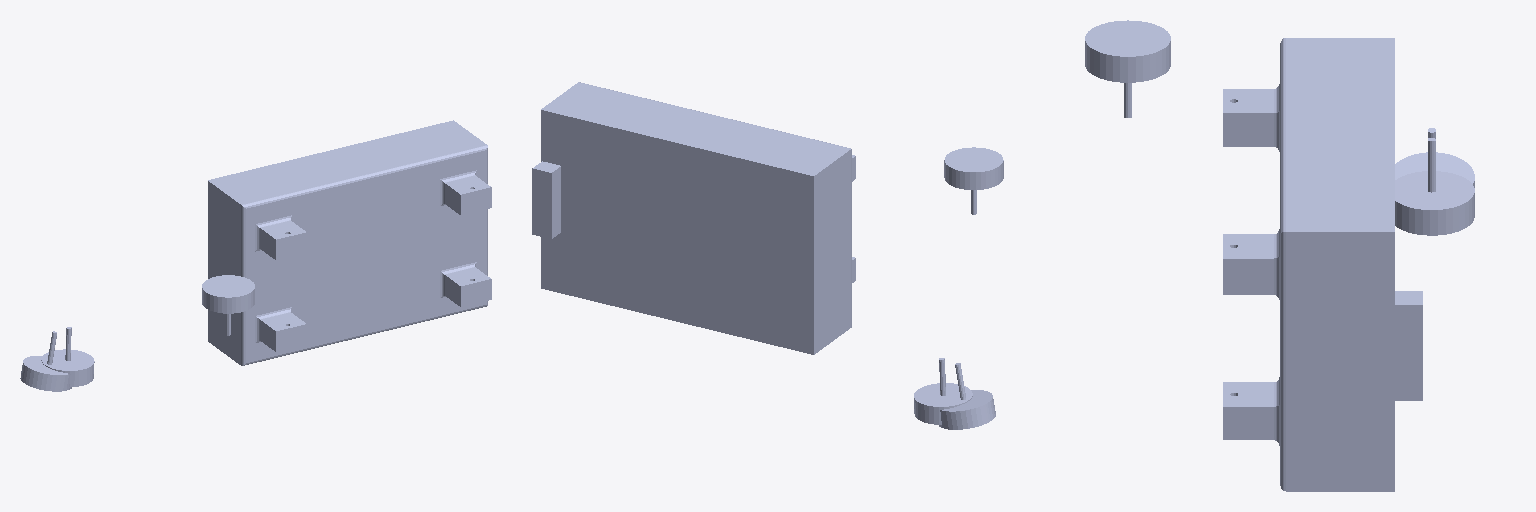
robot.urdf — MobileRobot:
<?xml version="1.0" encoding="utf-8"?>
<!-- This URDF was automatically created by SolidWorks to URDF Exporter! Originally created by [author] ([email redacted]) 
     Commit Version: 1.6.0-4-g7f85cfe  Build Version: 1.6.7995.38578
     For more information, please see http://wiki.ros.org/sw_urdf_exporter -->
<robot
  name="MobileRobot">
  <link
    name="base_link">
    <inertial>
      <origin
        xyz="0.0022933 -9.0093E-05 0.096212"
        rpy="0 0 0" />
      <mass
        value="10" />
      <inertia
        ixx="2.0518"
        ixy="0.0027302"
        ixz="-0.024527"
        iyy="4.8986"
        iyz="0.00096358"
        izz="6.285" />
    </inertial>
    <visual>
      <origin
        xyz="0 0 0"
        rpy="0 0 0" />
      <geometry>
        <mesh
          filename="package://MobileRobot/meshes/base_link.STL" />
      </geometry>
      <material
        name="">
        <color
          rgba="0.79216 0.81961 0.93333 1" />
      </material>
    </visual>
    <collision>
      <origin
        xyz="0 0 0"
        rpy="0 0 0" />
      <geometry>
        <mesh
          filename="package://MobileRobot/meshes/base_link.STL" />
      </geometry>
    </collision>
  </link>
  <link
    name="LF">
    <inertial>
      <origin
        xyz="0 -0.023529 6.9389E-18"
        rpy="0 0 0" />
      <mass
        value="0.90124" />
      <inertia
        ixx="0.001539"
        ixy="-3.0969E-19"
        ixz="-1.8635E-19"
        iyy="0.0024855"
        iyz="-2.8408E-19"
        izz="0.001539" />
    </inertial>
    <visual>
      <origin
        xyz="0 0 0"
        rpy="0 0 0" />
      <geometry>
        <mesh
          filename="package://MobileRobot/meshes/LF.STL" />
      </geometry>
      <material
        name="">
        <color
          rgba="0.79216 0.81961 0.93333 1" />
      </material>
    </visual>
    <collision>
      <origin
        xyz="0 0 0"
        rpy="0 0 0" />
      <geometry>
        <mesh
          filename="package://MobileRobot/meshes/LF.STL" />
      </geometry>
    </collision>
  </link>
  <joint
    name="LF_joint"
    type="revolute">
    <origin
      xyz="0.3 0.185 -0.08"
      rpy="0 -0.038067 3.1416" />
    <parent
      link="base_link" />
    <child
      link="LF" />
    <axis
      xyz="0 1 0" />
    <limit
      lower="0"
      upper="0"
      effort="0"
      velocity="0" />
  </joint>
  <link
    name="RF">
    <inertial>
      <origin
        xyz="-0.2978 0.17502 0.16888"
        rpy="0 0 0" />
      <mass
        value="0.9" />
      <inertia
        ixx="2.3183"
        ixy="4.6989E-05"
        ixz="-0.025924"
        iyy="5.3402"
        iyz="0.0025405"
        izz="6.7688" />
    </inertial>
    <visual>
      <origin
        xyz="0 0 0"
        rpy="0 0 0" />
      <geometry>
        <mesh
          filename="package://MobileRobot/meshes/RF.STL" />
      </geometry>
      <material
        name="">
        <color
          rgba="1 1 1 1" />
      </material>
    </visual>
    <collision>
      <origin
        xyz="0 0 0"
        rpy="0 0 0" />
      <geometry>
        <mesh
          filename="package://MobileRobot/meshes/RF.STL" />
      </geometry>
    </collision>
  </link>
  <joint
    name="RF_Joint"
    type="revolute">
    <origin
      xyz="0.3 -0.175 -0.08"
      rpy="0 0 0" />
    <parent
      link="base_link" />
    <child
      link="RF" />
    <axis
      xyz="0 -1 0" />
    <limit
      lower="0"
      upper="0"
      effort="0"
      velocity="0" />
  </joint>
  <link
    name="LB">
    <inertial>
      <origin
        xyz="1.3878E-17 -0.023529 -1.3878E-17"
        rpy="0 0 0" />
      <mass
        value="0.90124" />
      <inertia
        ixx="0.001539"
        ixy="-3.1174E-19"
        ixz="-2.7105E-20"
        iyy="0.0024855"
        iyz="-2.5103E-19"
        izz="0.001539" />
    </inertial>
    <visual>
      <origin
        xyz="0 0 0"
        rpy="0 0 0" />
      <geometry>
        <mesh
          filename="package://MobileRobot/meshes/LB.STL" />
      </geometry>
      <material
        name="">
        <color
          rgba="0.79216 0.81961 0.93333 1" />
      </material>
    </visual>
    <collision>
      <origin
        xyz="0 0 0"
        rpy="0 0 0" />
      <geometry>
        <mesh
          filename="package://MobileRobot/meshes/LB.STL" />
      </geometry>
    </collision>
  </link>
  <joint
    name="Lb_Joint"
    type="revolute">
    <origin
      xyz="-0.3 0.185 -0.08"
      rpy="0 -0.17988 3.1416" />
    <parent
      link="base_link" />
    <child
      link="LB" />
    <axis
      xyz="0 1 0" />
    <limit
      lower="0"
      upper="0"
      effort="0"
      velocity="0" />
  </joint>
  <link
    name="RB">
    <inertial>
      <origin
        xyz="-1.3878E-17 -0.023529 -1.3878E-17"
        rpy="0 0 0" />
      <mass
        value="0.90124" />
      <inertia
        ixx="0.001539"
        ixy="-4.6236E-19"
        ixz="-3.7876E-35"
        iyy="0.0024855"
        iyz="3.4173E-19"
        izz="0.001539" />
    </inertial>
    <visual>
      <origin
        xyz="0 0 0"
        rpy="0 0 0" />
      <geometry>
        <mesh
          filename="package://MobileRobot/meshes/RB.STL" />
      </geometry>
      <material
        name="">
        <color
          rgba="0.79216 0.81961 0.93333 1" />
      </material>
    </visual>
    <collision>
      <origin
        xyz="0 0 0"
        rpy="0 0 0" />
      <geometry>
        <mesh
          filename="package://MobileRobot/meshes/RB.STL" />
      </geometry>
    </collision>
  </link>
  <joint
    name="RB_Joint"
    type="revolute">
    <origin
      xyz="-0.3 -0.185 -0.08"
      rpy="0 0 0" />
    <parent
      link="base_link" />
    <child
      link="RB" />
    <axis
      xyz="0 1 0" />
    <limit
      lower="0"
      upper="0"
      effort="0"
      velocity="0" />
  </joint>
</robot>

--- What the picture shows (computed from the rendered views, not written in the file) ---
Views: 3 orthographic renders of the robot side by side, from view 1: azimuth 30°, elevation 25°; view 2: azimuth 150°, elevation 25°; view 3: azimuth 270°, elevation 25°.
Robot: MobileRobot — 5 links, 4 joints (4 revolute); root link base_link; default pose: all joints at 0.
Visible links, largest first — view 1: base_link, RB, LF, LB; view 2: base_link, RB, LF, LB; view 3: base_link, RB, LF, LB.
Boxes of the visible links, x1,y1,x2,y2 form: base_link: [208, 120, 491, 365]; RB: [202, 275, 254, 335]; LF: [41, 327, 94, 386]; LB: [20, 331, 71, 391]; base_link: [532, 82, 855, 354]; RB: [944, 147, 1003, 214]; LF: [914, 358, 972, 424]; LB: [939, 363, 995, 429]; base_link: [1223, 38, 1422, 491]; RB: [1085, 20, 1170, 117]; LF: [1395, 138, 1474, 235]; LB: [1395, 128, 1474, 187].
Size in the robot's own frame: 1.36 by 0.6799 by 0.5527 metres.
4 mesh visuals loaded from 5 distinct referenced files (4 binary STL); not drawn: 1 (file found but could not be loaded).